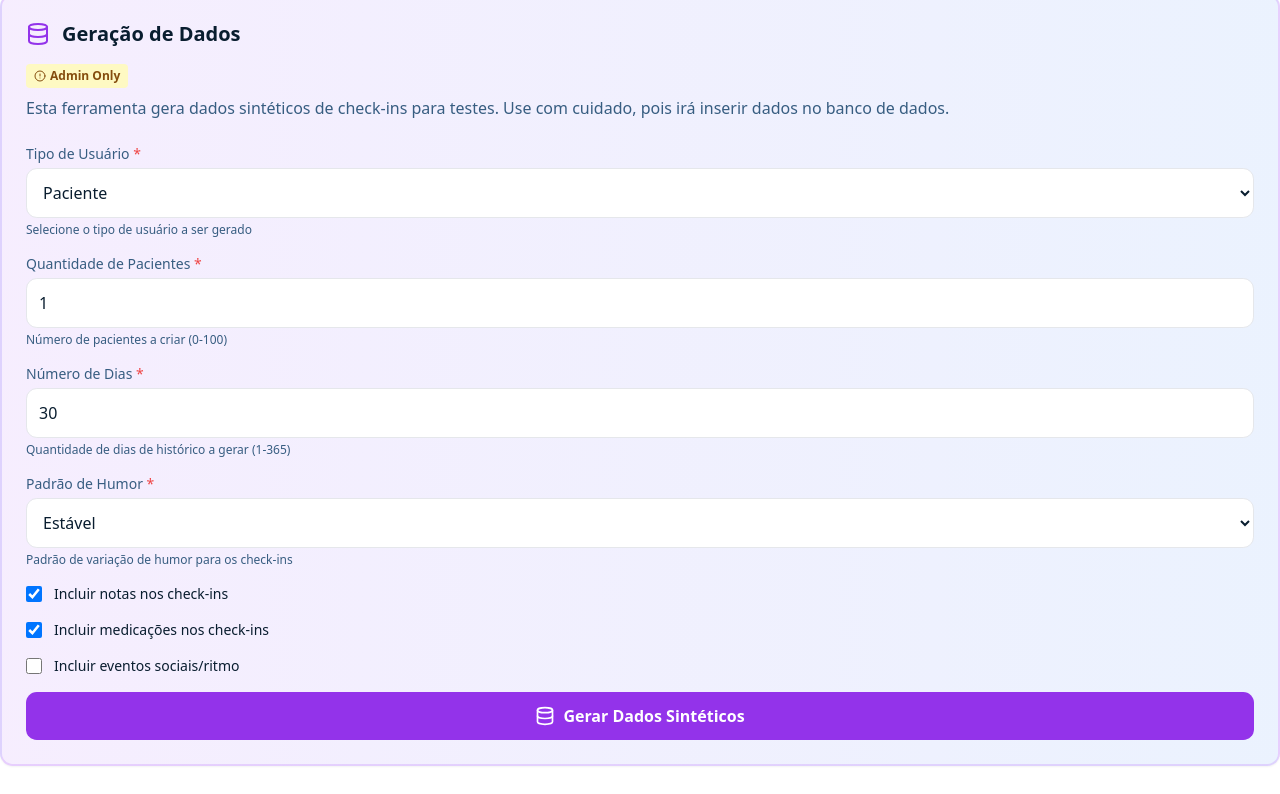
Test: DataGenerator › should show success message with statistics
Expected: the dropdown labelled "Tipo de Usuário *" is shown, x1=26 y1=168 x2=1254 y2=218
Click the button "Gerar Dados Sintéticos": click(640, 716) x1=26 y1=692 x2=1254 y2=740
(page scrolled)
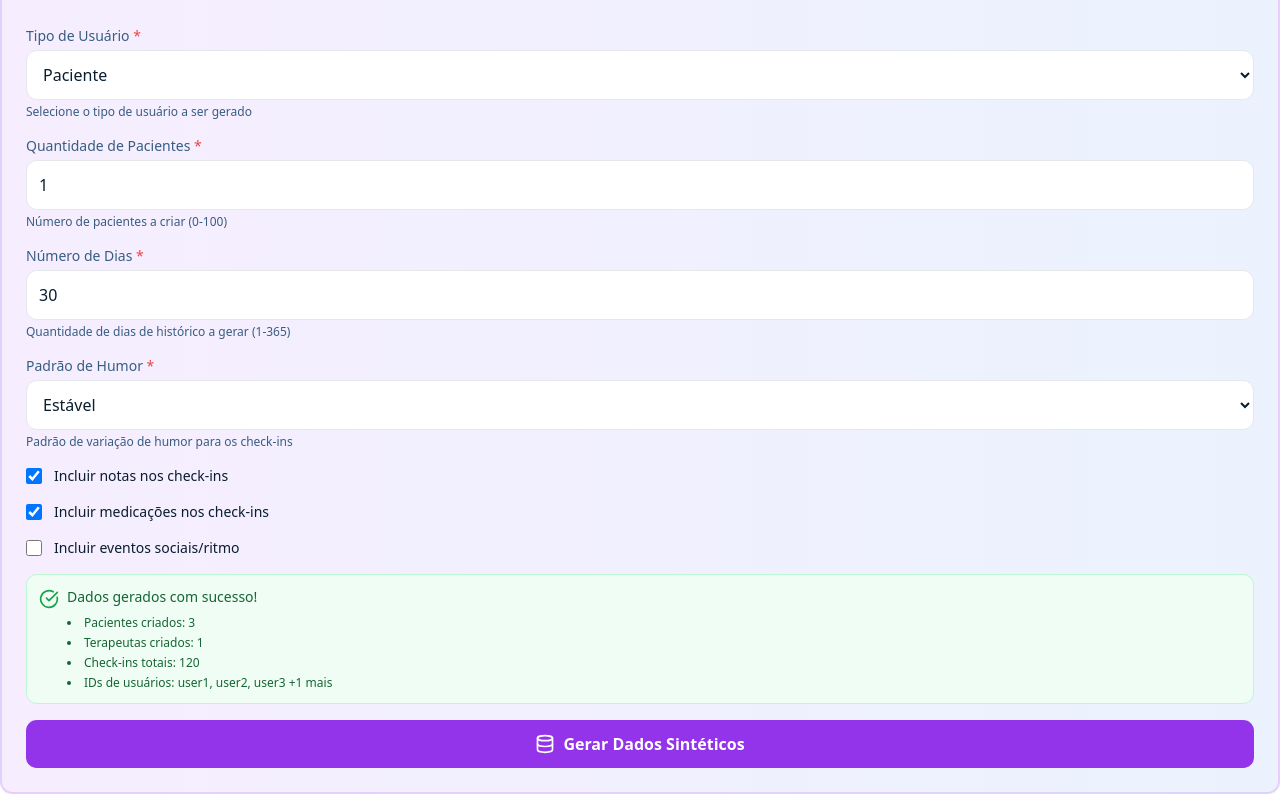
Expected: the text "Dados gerados com sucesso!" is shown, x1=67 y1=587 x2=257 y2=606
Expected: the list item "Pacientes criados: 3" is shown, x1=84 y1=614 x2=195 y2=631
Expected: the list item "Terapeutas criados: 1" is shown, x1=84 y1=634 x2=204 y2=651
